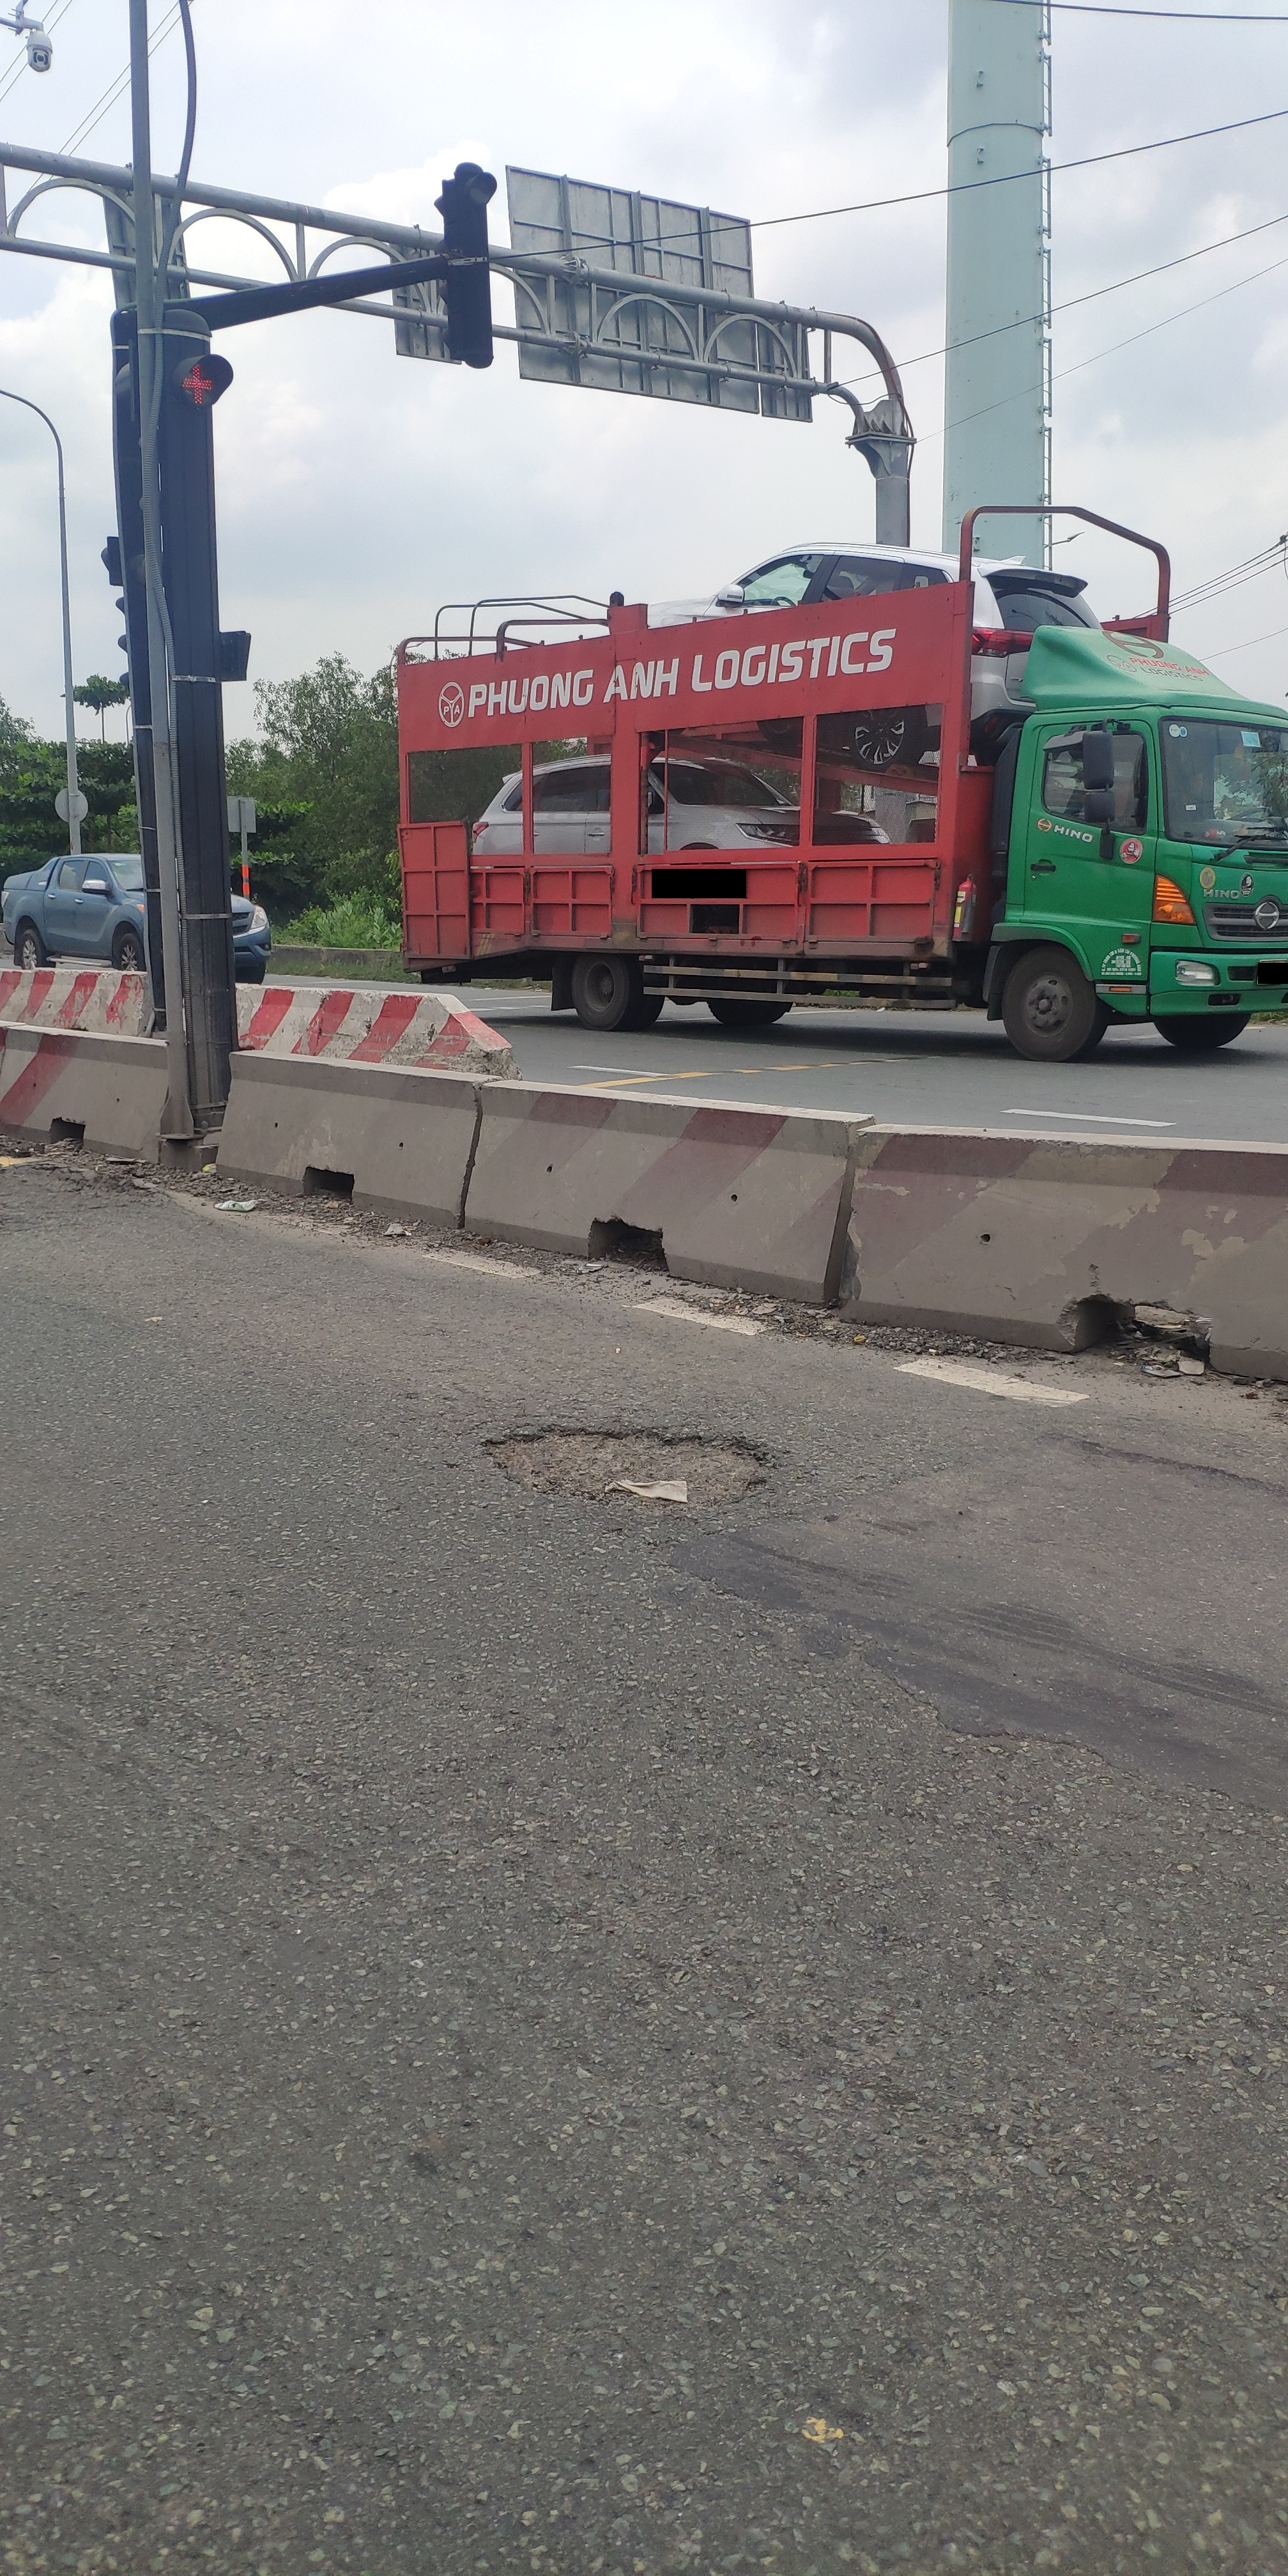hole: (460, 1411, 800, 1521)
